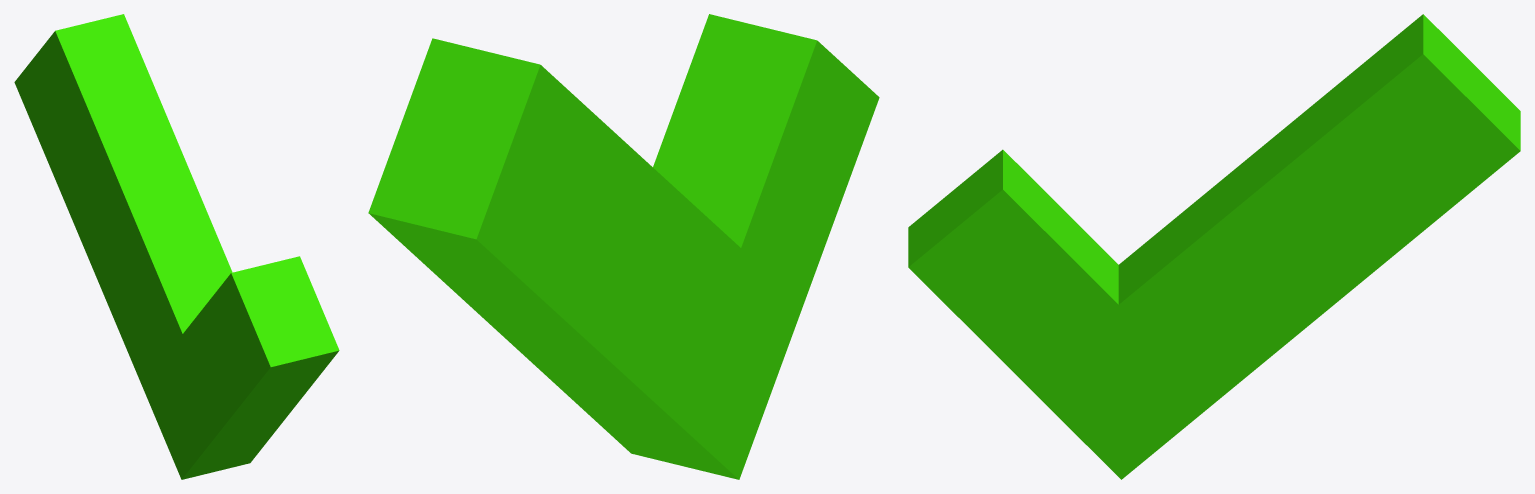
File: Tick 1.fbx
3 views of the same model, side by side, from view 1: azimuth 30°, elevation 25°; view 2: azimuth 150°, elevation 25°; view 3: azimuth 270°, elevation 25° (orthographic). The views are drawn at different scales.
Visible parts, largest first — view 1: Cube; view 2: Cube; view 3: Cube.
Boxes of the visible parts, bbox=[...] form: Cube: bbox=[14, 14, 339, 479]; Cube: bbox=[368, 14, 879, 479]; Cube: bbox=[908, 14, 1520, 479].
Bounding box in the file's own units: 1.31 × 6.49 × 8.46.
